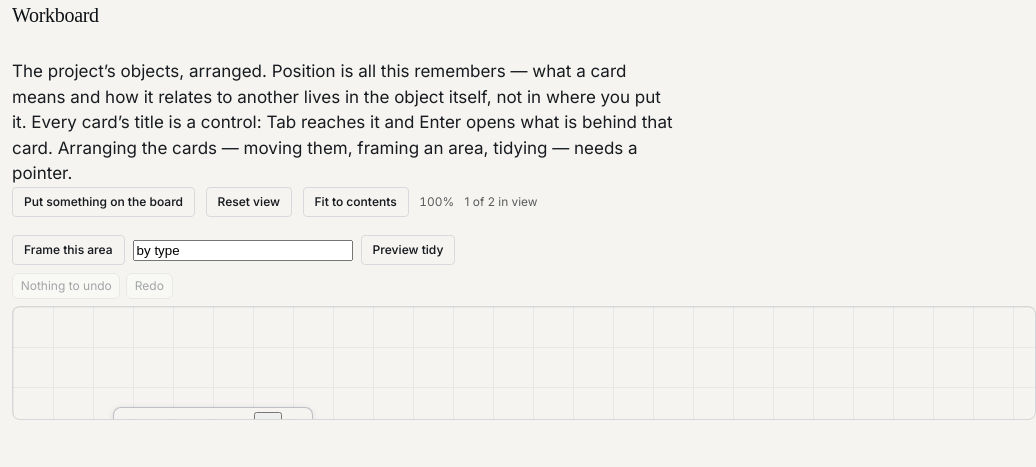
Test: putting something on the board › says so when there is nothing left to place
This screenshot has width=1036, height=467.
Click the button "Put something on the board": (104, 202) x1=12 y1=186 x2=195 y2=216
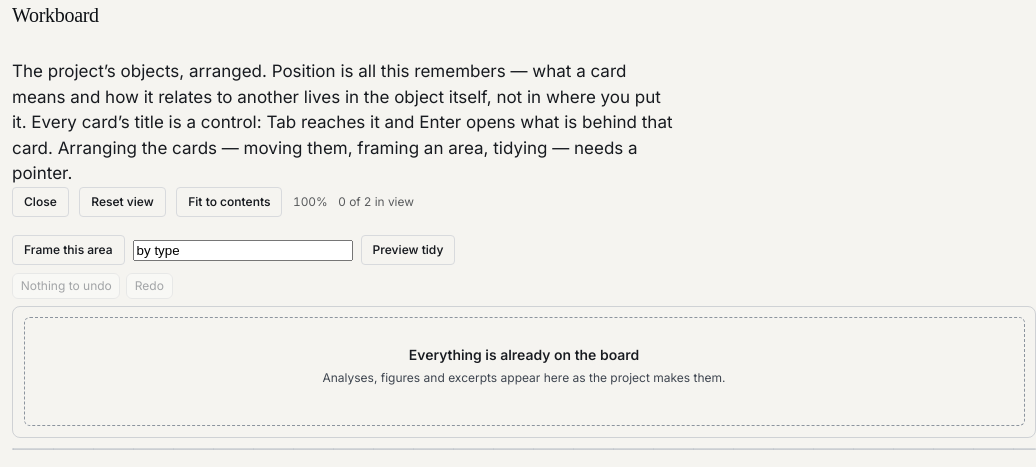
Now the text "Everything is already on the board" is shown, box x1=409 y1=346 x2=639 y2=363
